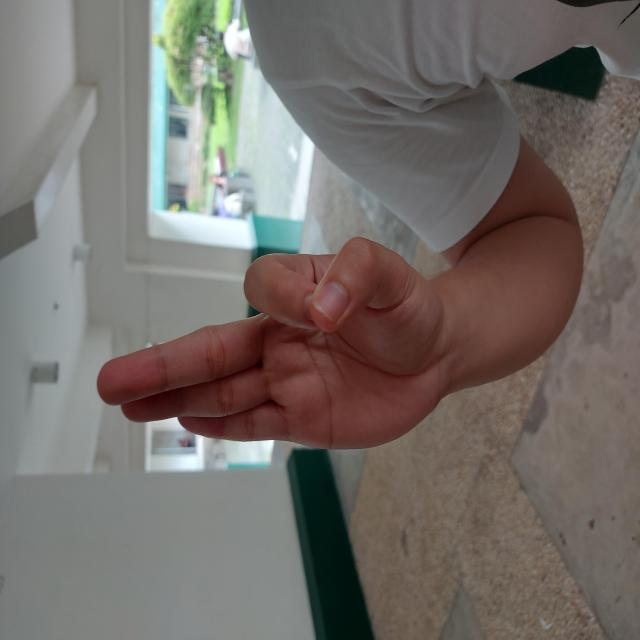F: (186, 94, 408, 450)
